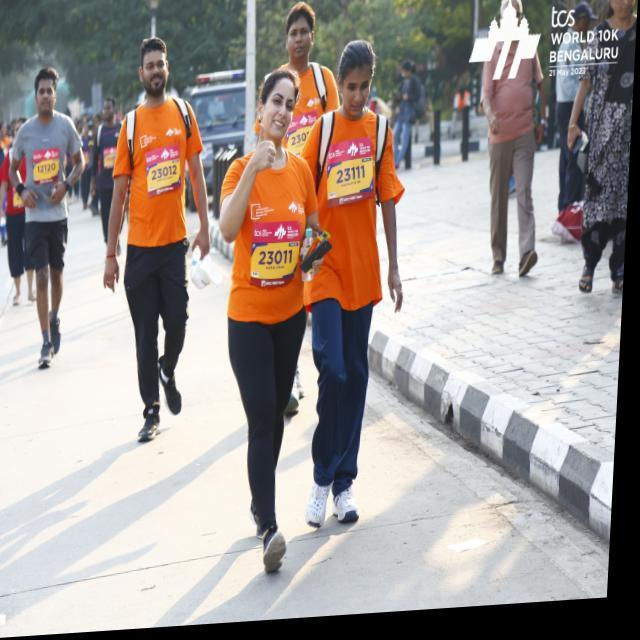dorsal: (250, 224, 307, 290), (326, 147, 382, 210), (144, 148, 186, 198), (33, 148, 64, 188)
